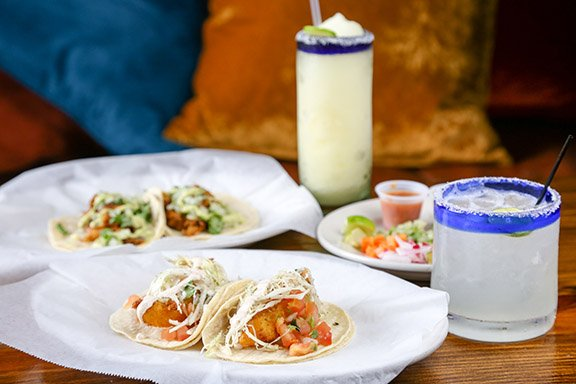pizza: (428, 175, 562, 343), (375, 179, 428, 229)
